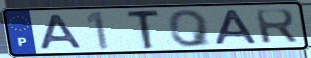1: (85, 10, 111, 52)
A: (213, 9, 261, 47), (38, 13, 86, 50)
Q: (166, 8, 215, 49)
R: (253, 7, 301, 45)
T: (126, 8, 163, 51)
